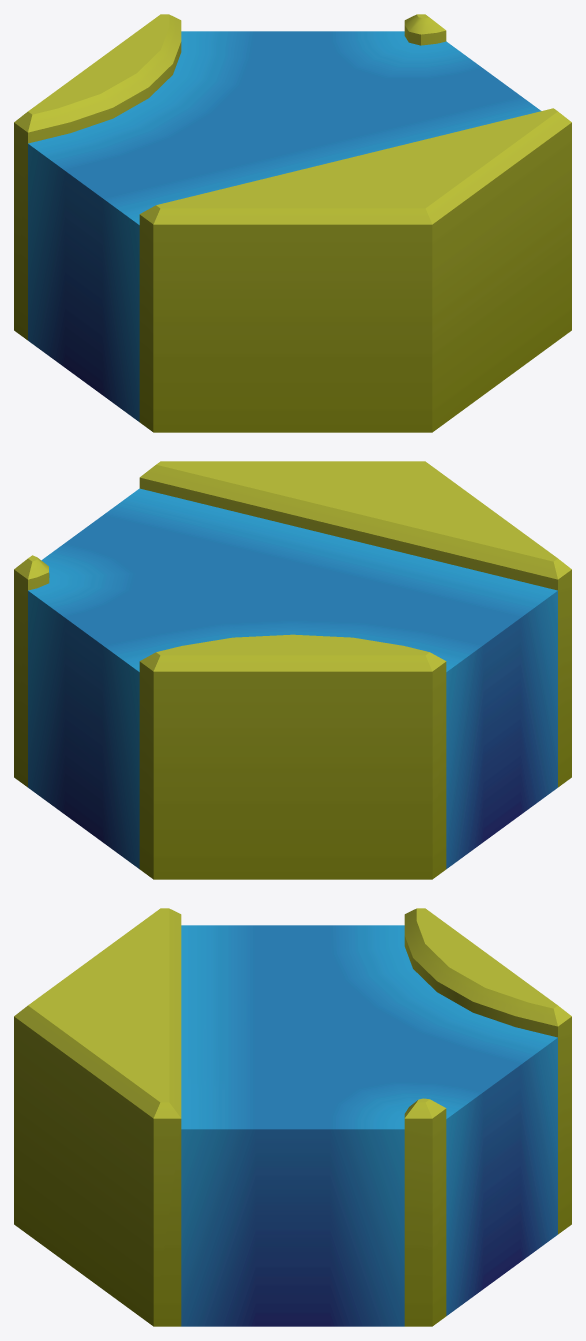
File: kaykit-medieval-hexagon-pack-hex-river-e.glb
3 views of the same model, one above another, from view 1: azimuth 30°, elevation 25°; view 2: azimuth 150°, elevation 25°; view 3: azimuth 270°, elevation 25° (orthographic).
Visible parts, largest first — view 1: hex_river_E; view 2: hex_river_E; view 3: hex_river_E.
Part boxes in pixels (x1,y1,x2,y2): hex_river_E: [14, 14, 571, 432]; hex_river_E: [14, 461, 571, 879]; hex_river_E: [14, 908, 571, 1326].
Bounding box in the file's own units: 2 × 1 × 2.31.
1 material, 1 textured.
